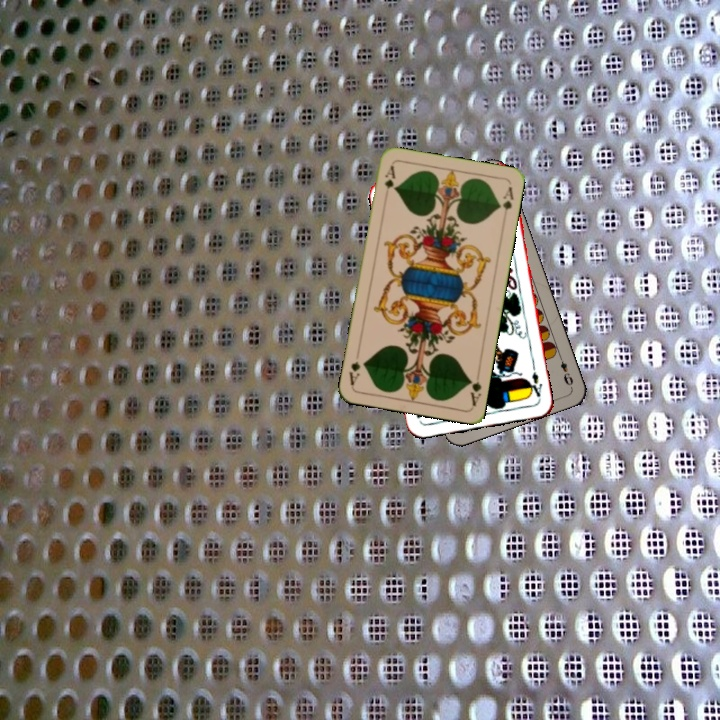E9: (555, 351, 576, 390)
EA: (525, 368, 545, 399)
GA: (465, 375, 484, 408), (381, 162, 398, 192)
